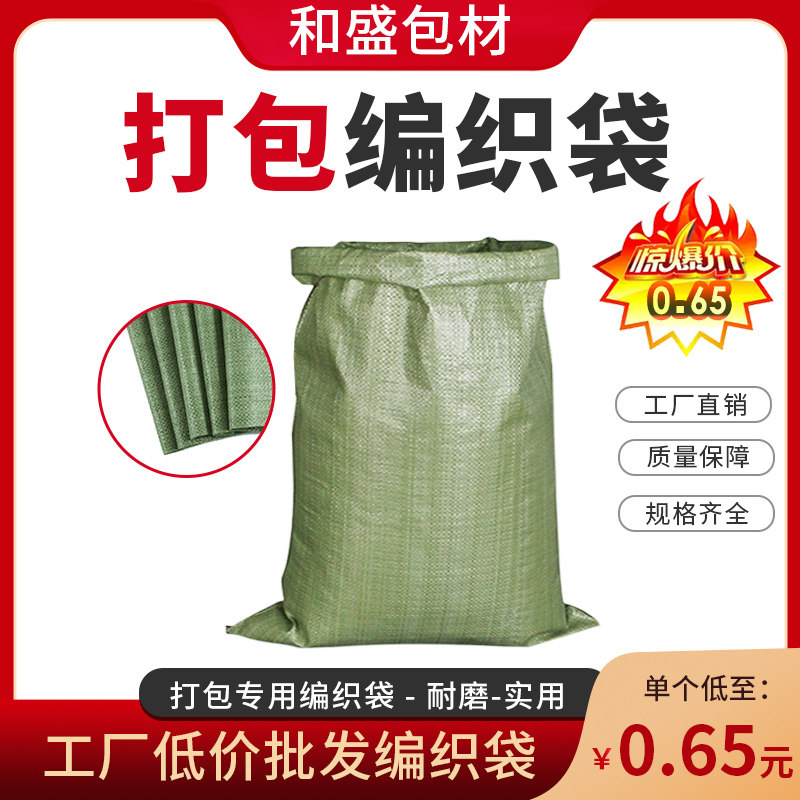Parcel: (283, 238, 589, 644)
